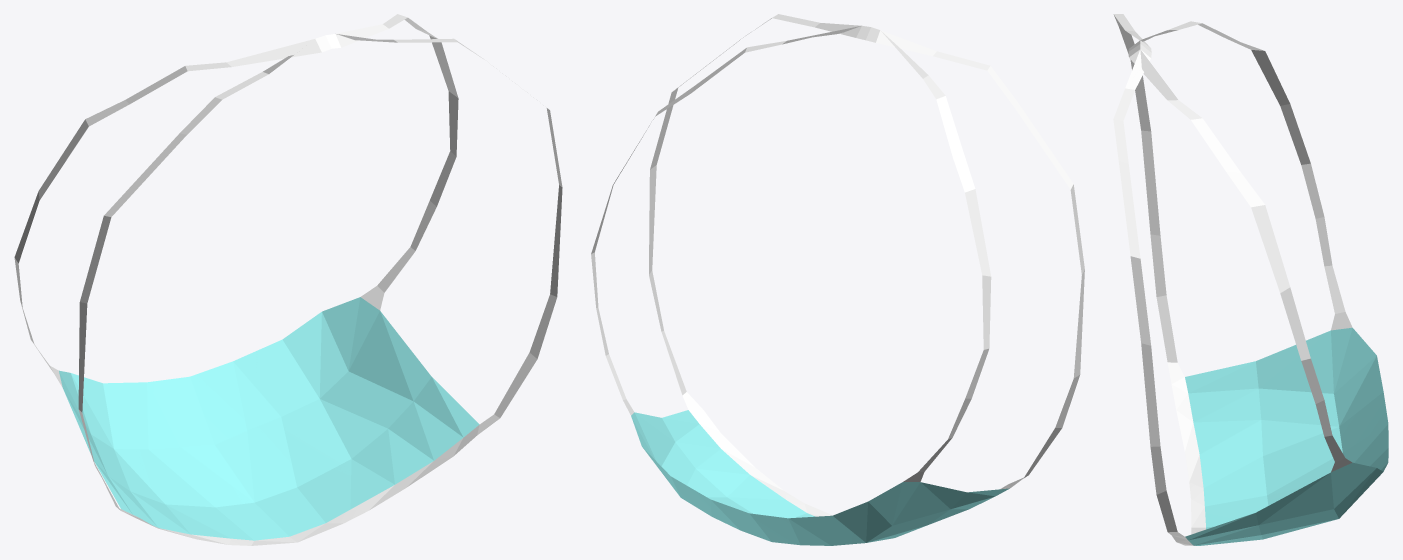
The model's file is FaceMask.glb.
The picture shows the model from 3 angles, left to right: view 1: azimuth 30°, elevation 25°; view 2: azimuth 150°, elevation 25°; view 3: azimuth 270°, elevation 25°; orthographic projection. The views are drawn at different scales.
Parts seen in each view (by area): view 1: FaceMask; view 2: FaceMask; view 3: FaceMask.
Boxes of the visible parts, bbox=[...] form: FaceMask: bbox=[14, 14, 562, 545]; FaceMask: bbox=[591, 14, 1084, 545]; FaceMask: bbox=[1113, 14, 1388, 545].
Bounding box in the file's own units: 0.1762 × 0.1854 × 0.0956.
1 material, 1 textured.
